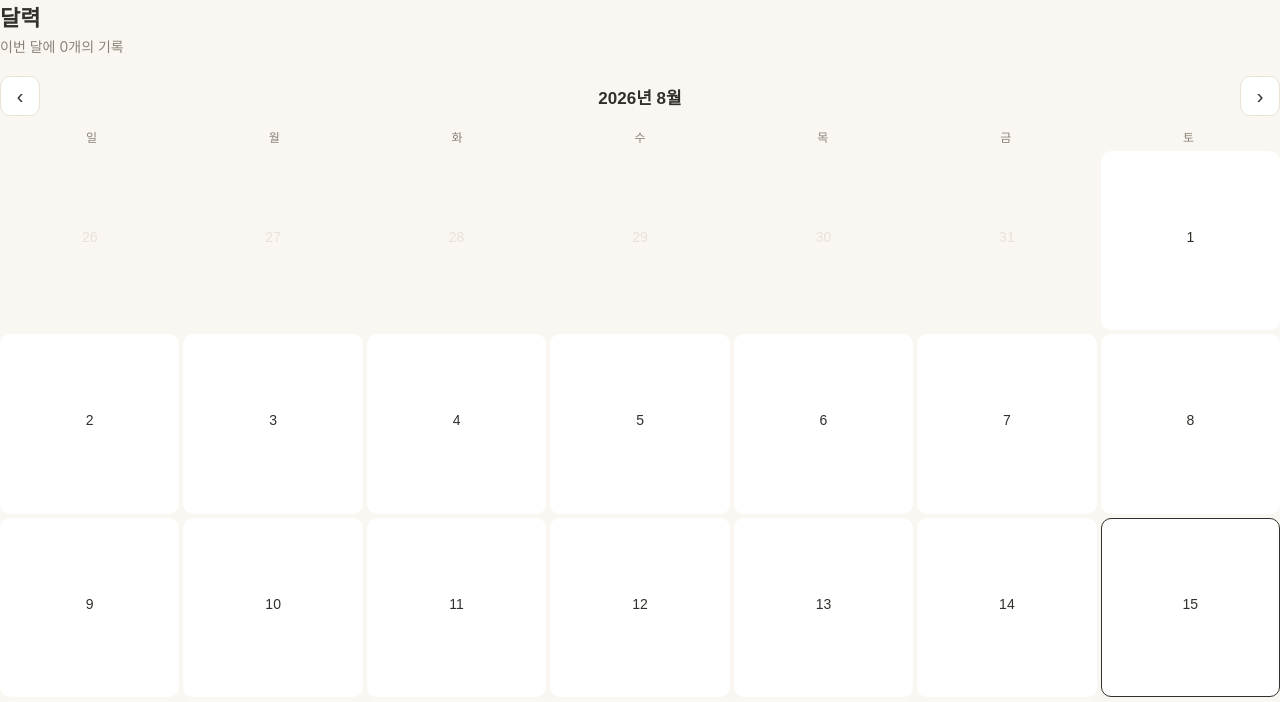
Test: CalendarPage › 달 이름을 누르면 이번 달로 돌아온다
This screenshot has width=1280, height=702.
Expected: the button "2026년 8월" is shown, [592,82,688,110]
Click the button named "이전 달": click(20, 96) [0,76,40,116]
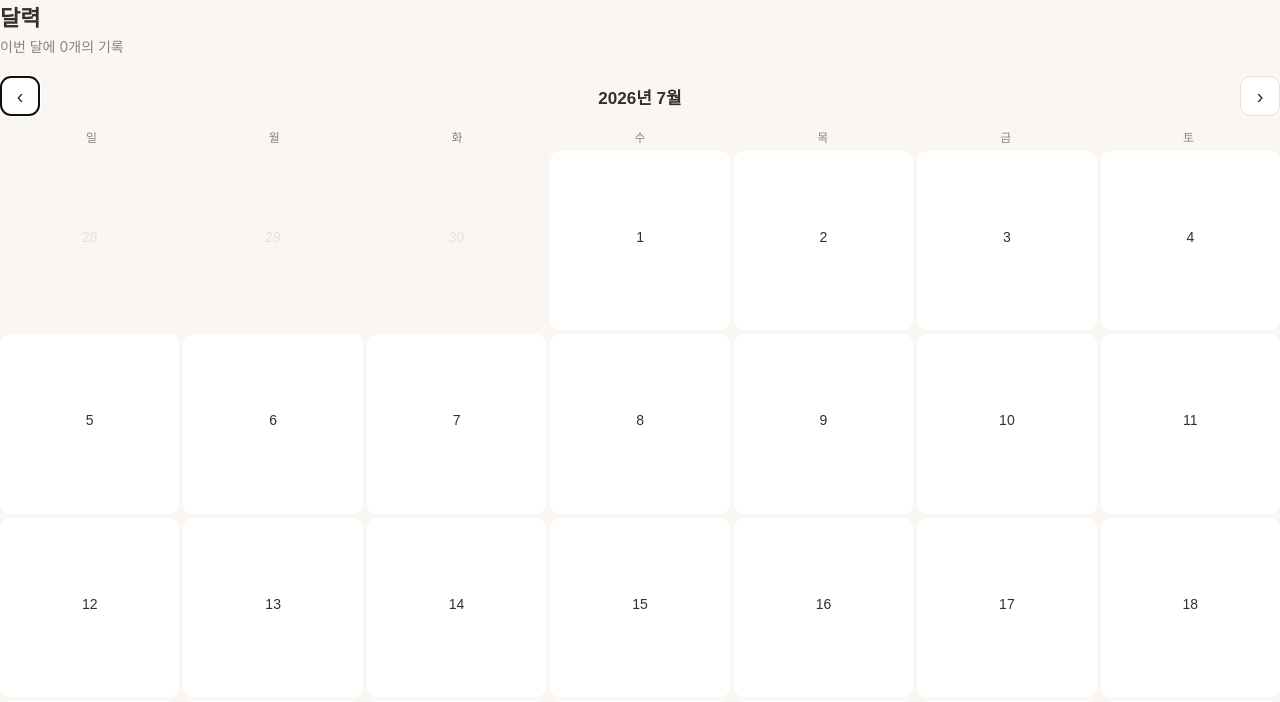
Click the button "2026년 7월": click(640, 96) [592,82,688,110]
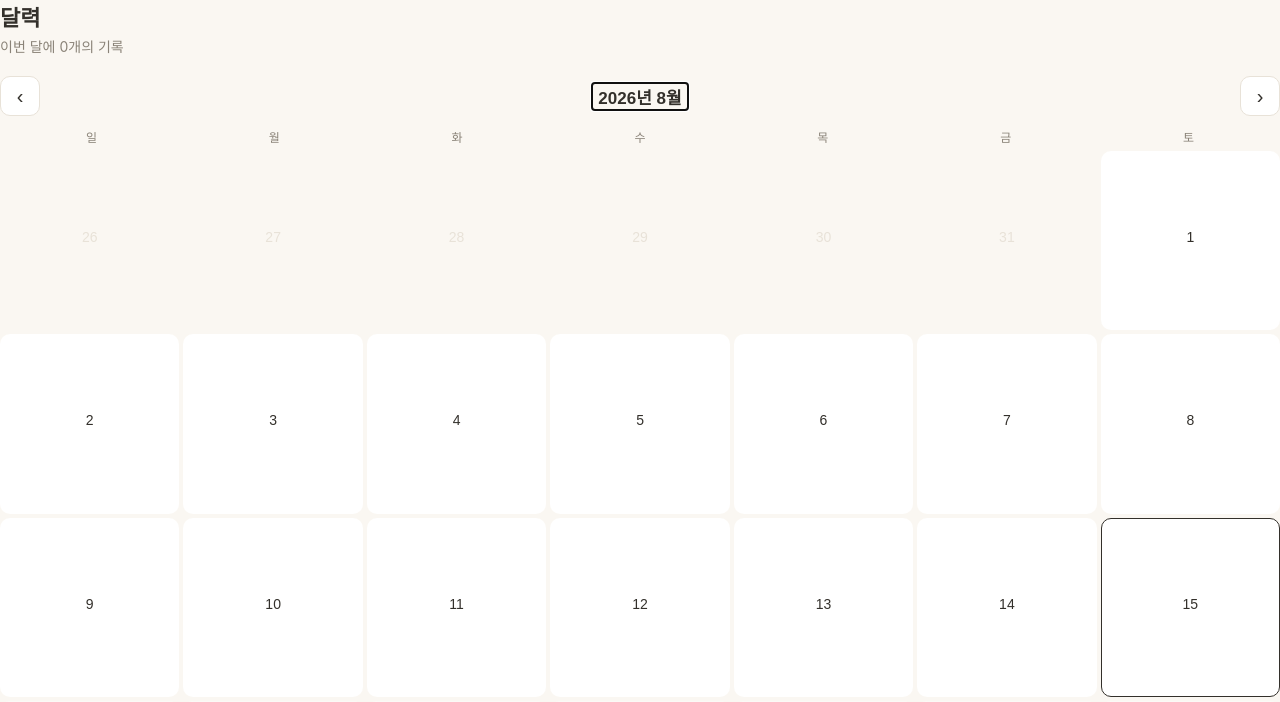
Result: the button "2026년 8월" is shown at [592,82,688,110]
